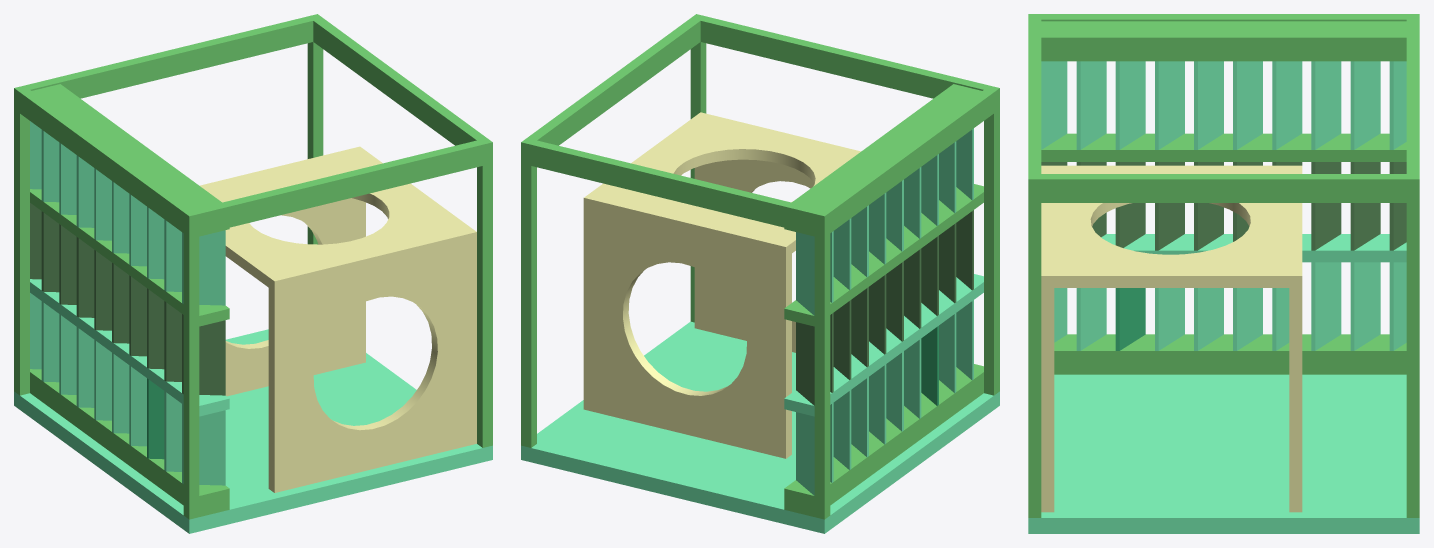
3 views of the same model, side by side, from view 1: azimuth 30°, elevation 25°; view 2: azimuth 150°, elevation 25°; view 3: azimuth 270°, elevation 25° (orthographic). The views are drawn at different scales.
Visible parts, largest first — view 1: 物件_1, 物件_38, 物件_2, 物件_45, 物件_3, 物件_44, 物件_43, 物件_5, 物件_41, 物件_4, 物件_46, 物件_39 (+34 smaller); view 2: 物件_3, 物件_38, 物件_2, 物件_44, 物件_45, 物件_1, 物件_4, 物件_43, 物件_5, 物件_42, 物件_46, 物件_40 (+31 smaller); view 3: 物件_38, 物件_2, 物件_5, 物件_4, 物件_46, 物件_6, 物件_39, 物件_40, 物件_1, 物件_3, 物件_17, 物件_43 (+28 smaller).
Boxes of the visible parts, box(x1,y1,x2,y2) form: 物件_1: box(268, 228, 476, 492); 物件_38: box(14, 329, 492, 533); 物件_2: box(200, 146, 476, 290); 物件_45: box(185, 139, 492, 235); 物件_3: box(200, 147, 365, 396); 物件_44: box(14, 15, 320, 107); 物件_43: box(14, 86, 199, 235); 物件_5: box(32, 84, 229, 236); 物件_41: box(183, 209, 199, 519); 物件_4: box(30, 369, 229, 516); 物件_46: box(308, 15, 491, 164); 物件_39: box(477, 138, 492, 447); 物件_3: box(583, 193, 791, 458); 物件_38: box(521, 321, 999, 533); 物件_2: box(583, 112, 860, 257); 物件_44: box(521, 138, 830, 235); 物件_45: box(692, 14, 999, 107); 物件_1: box(694, 112, 860, 352); 物件_4: box(784, 364, 983, 516); 物件_43: box(814, 86, 999, 236); 物件_5: box(784, 84, 981, 236); 物件_42: box(814, 209, 830, 519); 物件_46: box(521, 15, 701, 165); 物件_40: box(521, 138, 536, 447); 物件_38: box(1028, 374, 1419, 533); 物件_2: box(1041, 165, 1302, 287); 物件_5: box(1041, 21, 1406, 61); 物件_4: box(1054, 334, 1406, 374); 物件_46: box(1030, 174, 1419, 202); 物件_6: box(1041, 133, 1406, 161); 物件_39: box(1028, 174, 1041, 517); 物件_40: box(1406, 174, 1419, 517); 物件_1: box(1041, 165, 1054, 512); 物件_3: box(1289, 166, 1302, 512); 物件_17: box(1101, 234, 1406, 262); 物件_43: box(1028, 14, 1419, 21).
Bounding box in the file's own units: 48 × 48 × 48.
